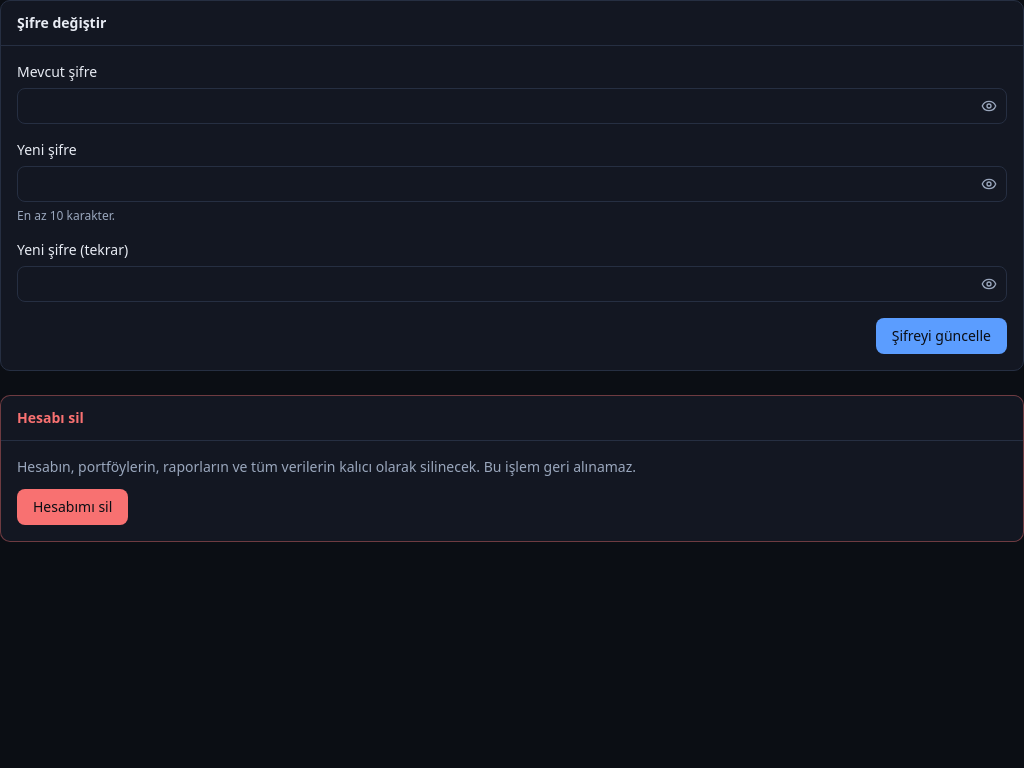
Scenario: SecurityTab — şifre › kısa şifrede min uzunluk hatası gösterir
The width and height of the screenshot is (1024, 768).
Type "secret12345" into the password field labelled "Mevcut şifre".
click(512, 106); type("secret12345")  # box [17,88,1007,124]
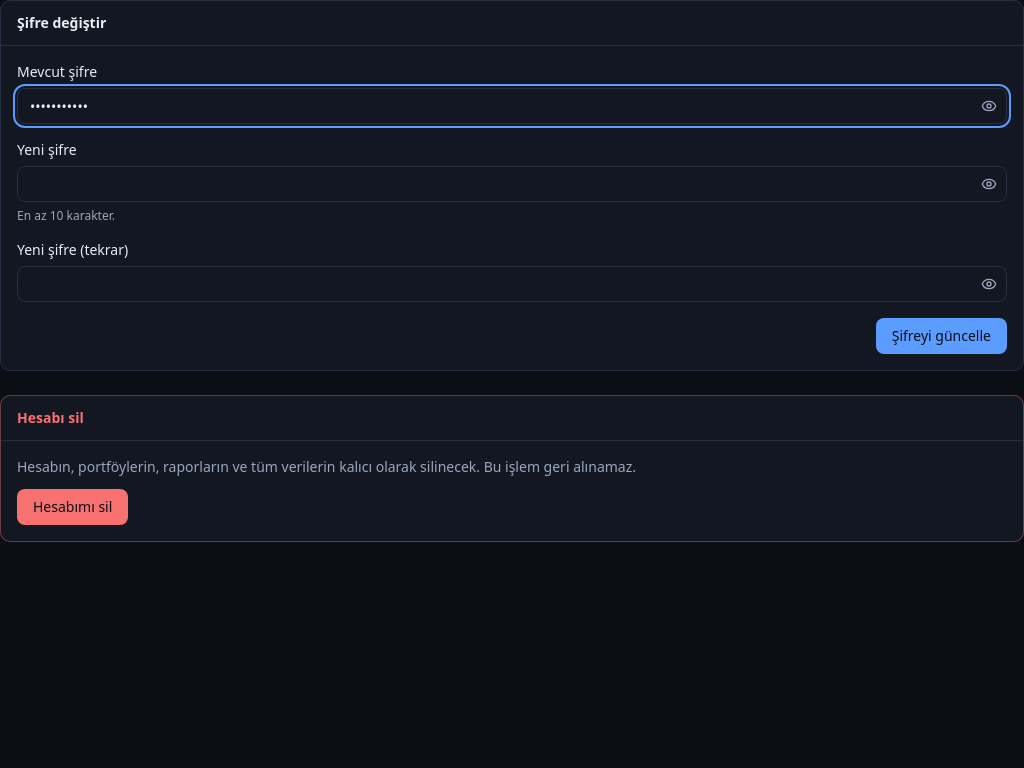
Type "kisa" into the password field labelled "Yeni şifre".
click(512, 184); type("kisa")  # box [17,166,1007,202]
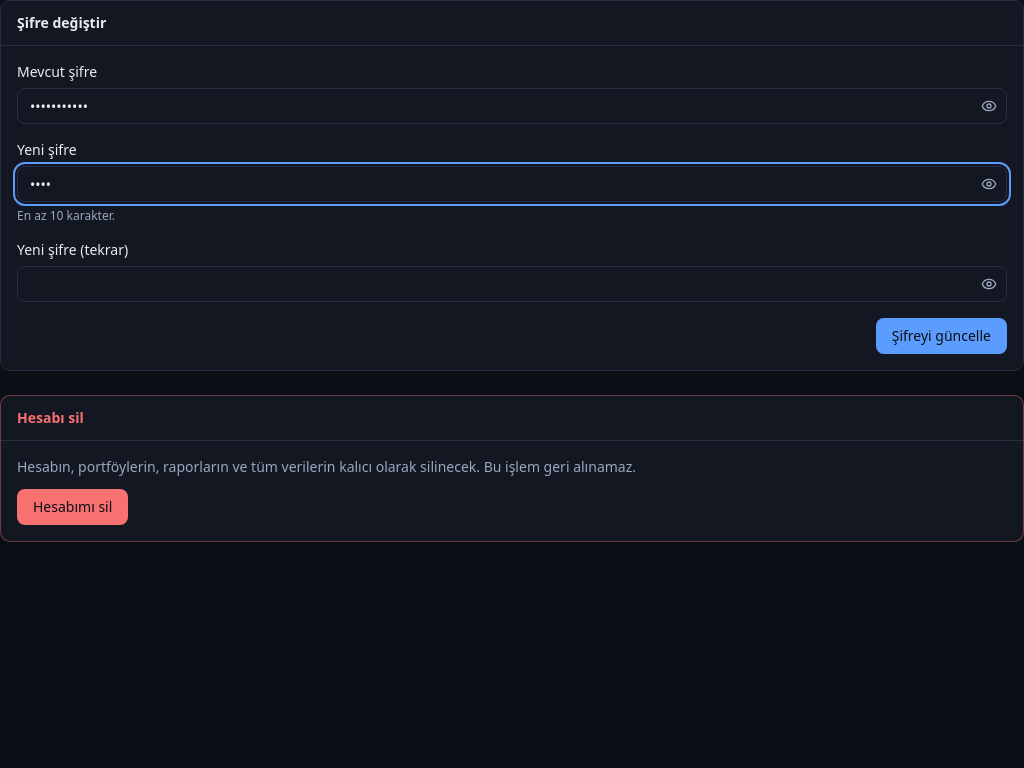
Type "kisa" into the password field labelled "Yeni şifre (tekrar)".
click(512, 284); type("kisa")  # box [17,266,1007,302]
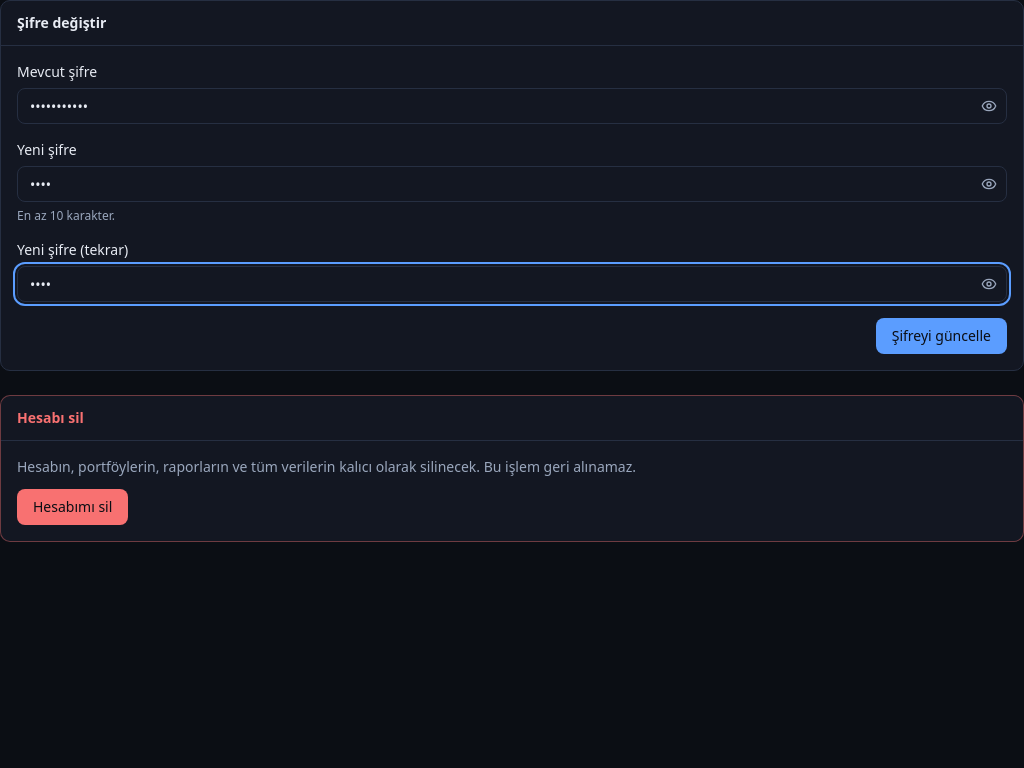
Click the button "Şifreyi güncelle".
click(941, 336)  # box [876,318,1007,354]
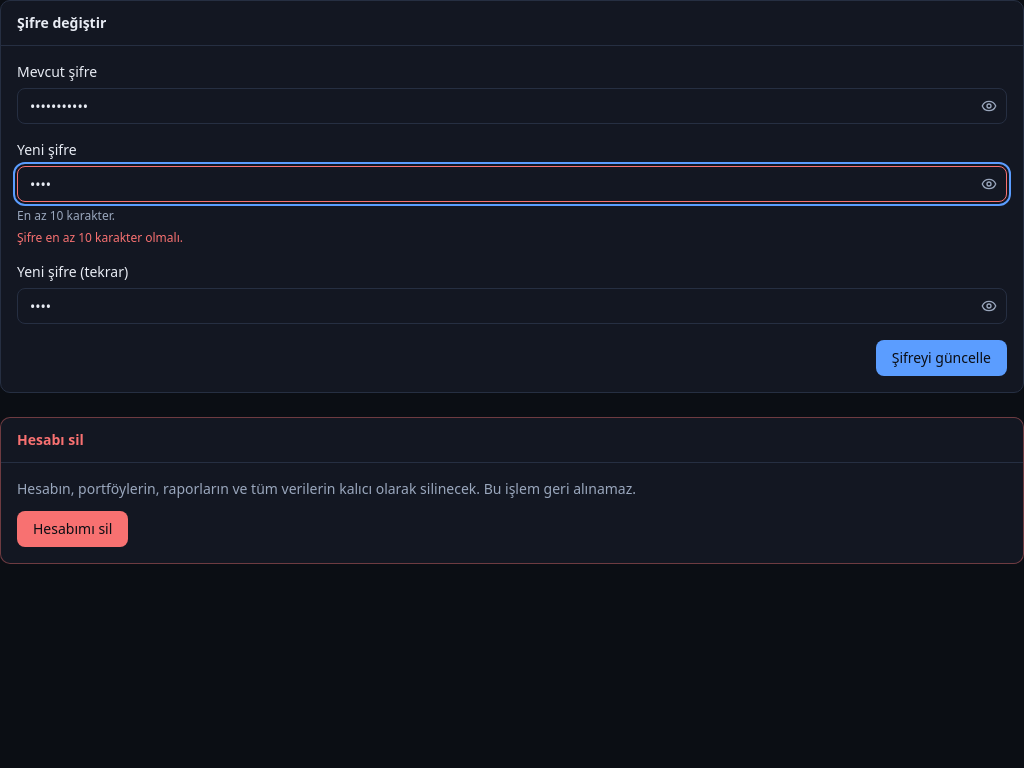
expect the text "Şifre en az 10 karakter olmalı." is shown: met, box [17,229,183,246]
